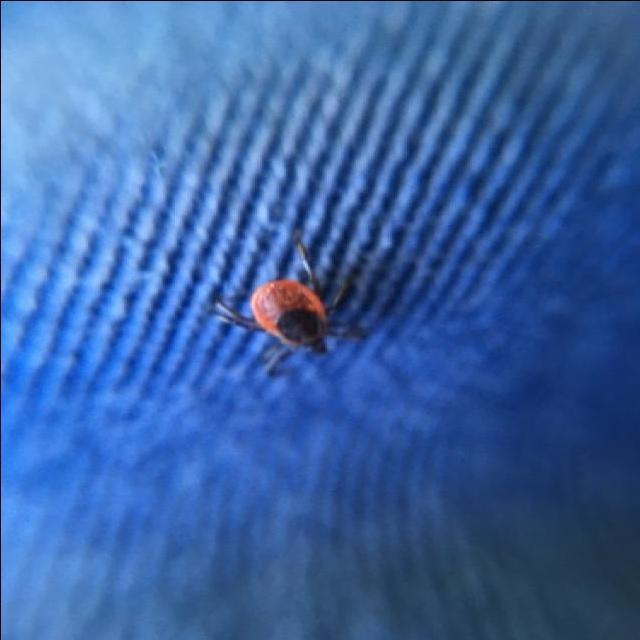Ixodes Ricinus-F: (210, 241, 362, 353)
